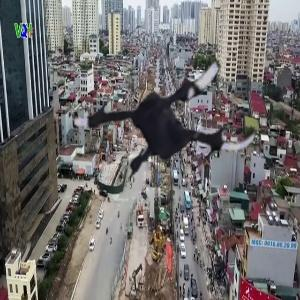drone: (74, 17, 265, 208)
